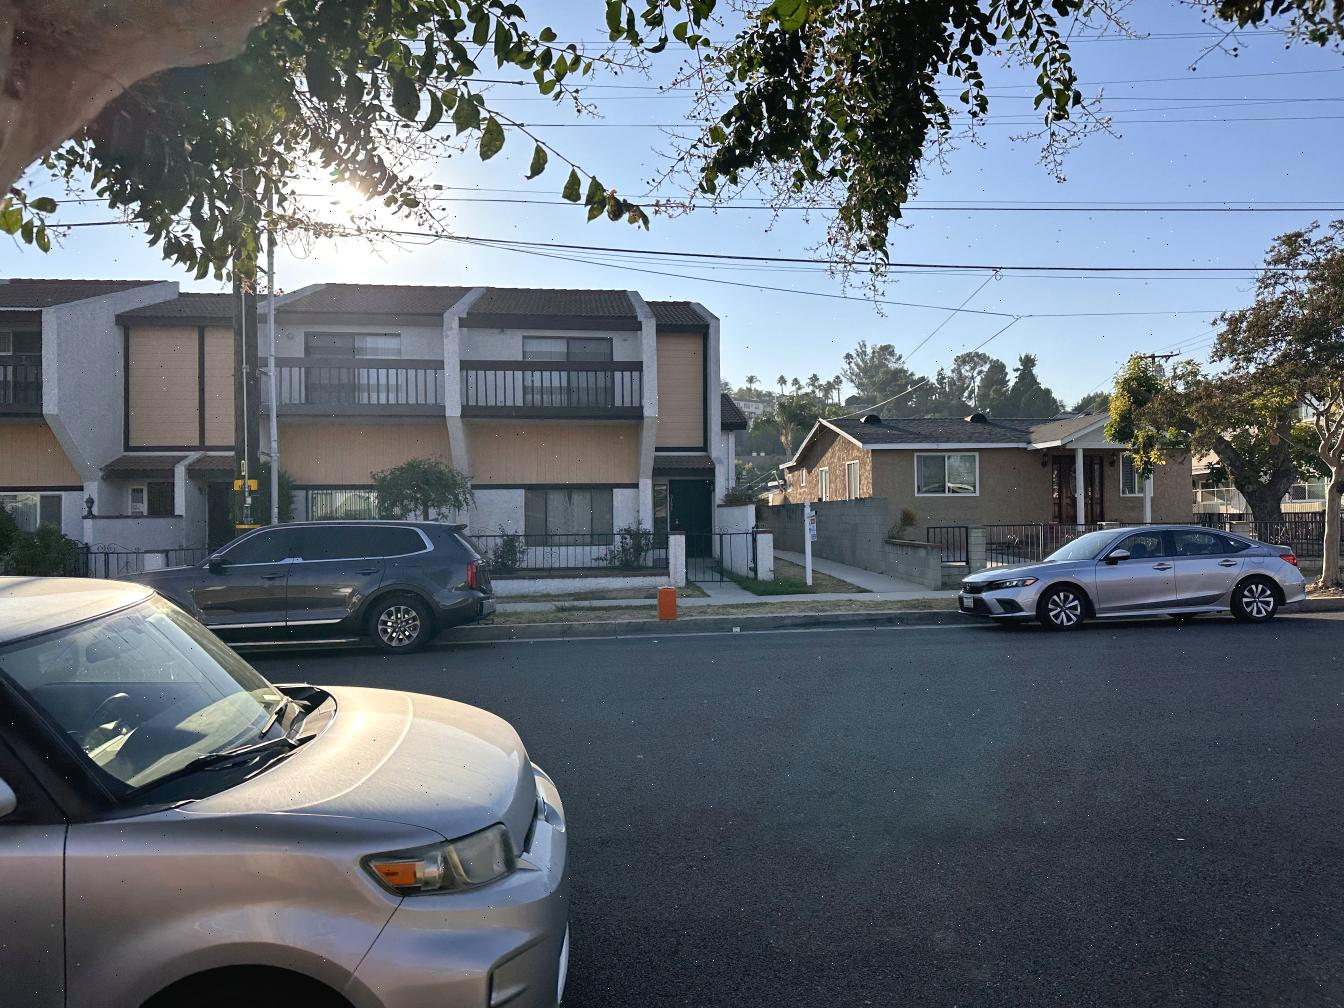curbs-laRr: (686, 608, 957, 636), (482, 620, 678, 643)
orange box: (655, 584, 679, 620)
